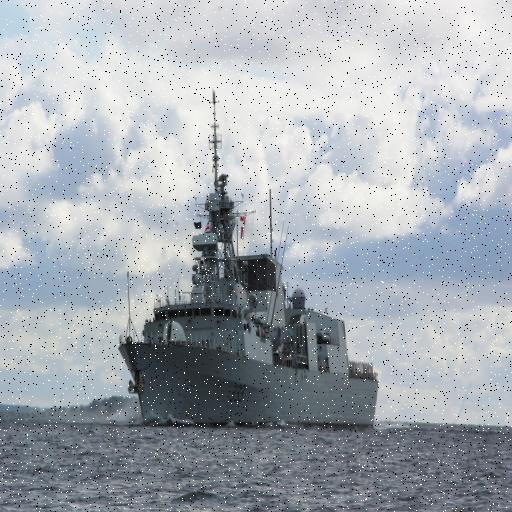Fragata: (119, 84, 382, 429)
